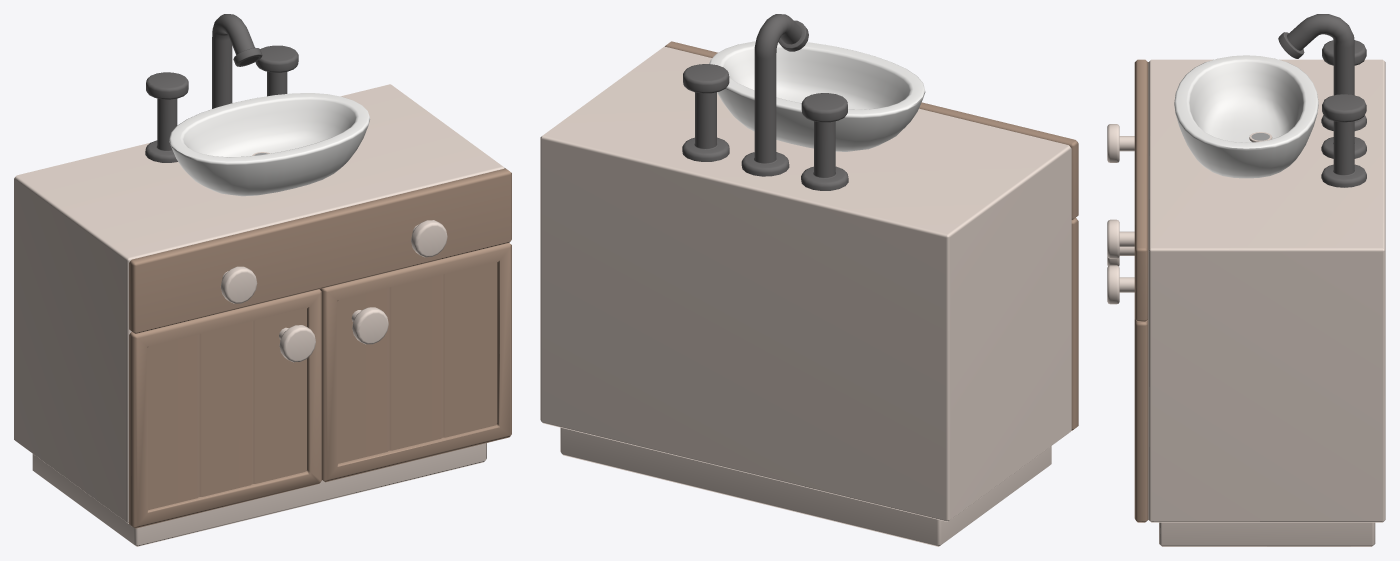
The model's file is Washstand_3.glb.
3 renders of one model, left to right at view 1: azimuth 30°, elevation 25°; view 2: azimuth 150°, elevation 25°; view 3: azimuth 270°, elevation 25°, orthographic. The views are drawn at different scales.
Parts seen in each view (by area): view 1: Washstand_3; view 2: Washstand_3; view 3: Washstand_3.
Part boxes in pixels (bbox=[...]): Washstand_3: bbox=[14, 14, 511, 546]; Washstand_3: bbox=[540, 14, 1078, 546]; Washstand_3: bbox=[1107, 14, 1385, 546].
Size of the model in its own units: 1.38 by 1.5 by 0.8535.
Materials: 1 (1 with a texture image).
